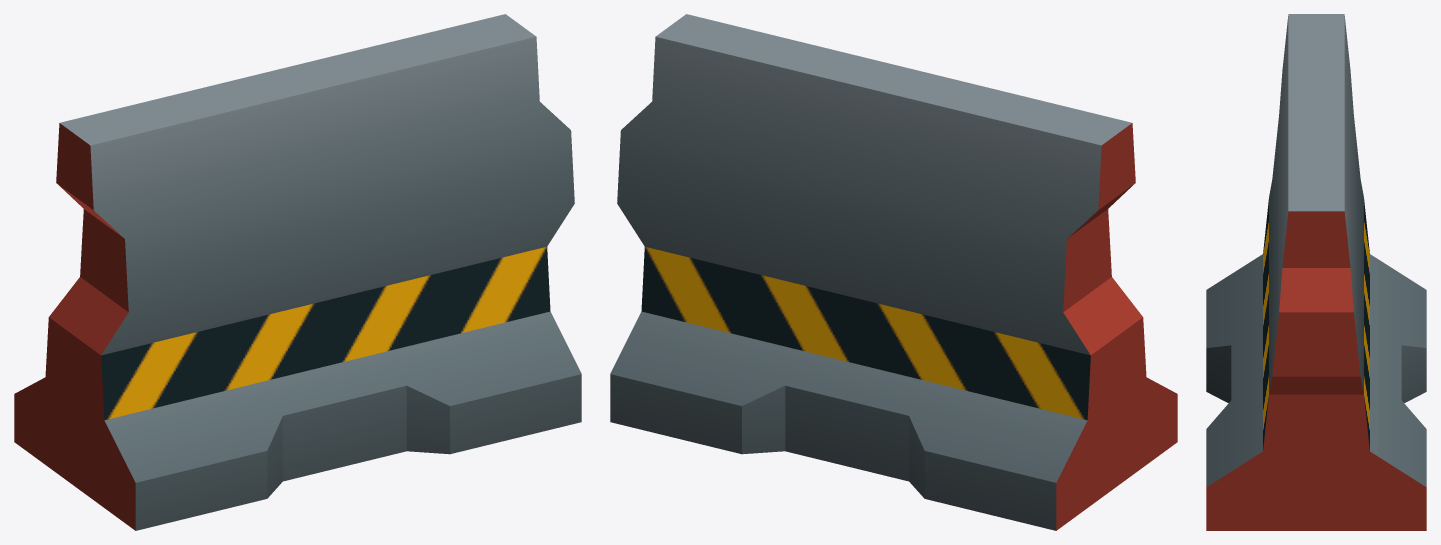
Rendered from Barriaer_005.fbx.
3 renders of one model, left to right at view 1: azimuth 30°, elevation 25°; view 2: azimuth 150°, elevation 25°; view 3: azimuth 270°, elevation 25°, orthographic. The views are drawn at different scales.
Parts seen in each view (by area): view 1: Barriaer_005; view 2: Barriaer_005; view 3: Barriaer_005.
Part boxes in pixels (x1=…): Barriaer_005: x1=14, y1=14, x2=581, y2=530; Barriaer_005: x1=610, y1=14, x2=1177, y2=530; Barriaer_005: x1=1206, y1=14, x2=1426, y2=530.
Size of the model in its own units: 113 by 50 by 80.
